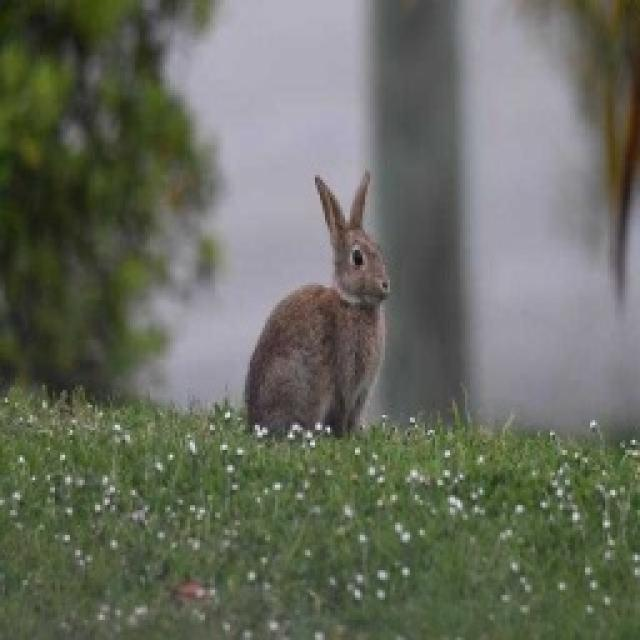not_pig: (242, 168, 390, 438)
